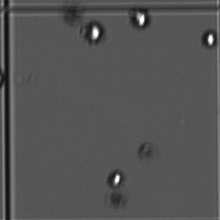Dead Cell: (106, 192, 128, 208), (137, 142, 155, 160)
Living Cell: (80, 18, 104, 45), (128, 6, 149, 30), (105, 168, 123, 188), (201, 28, 218, 49)
